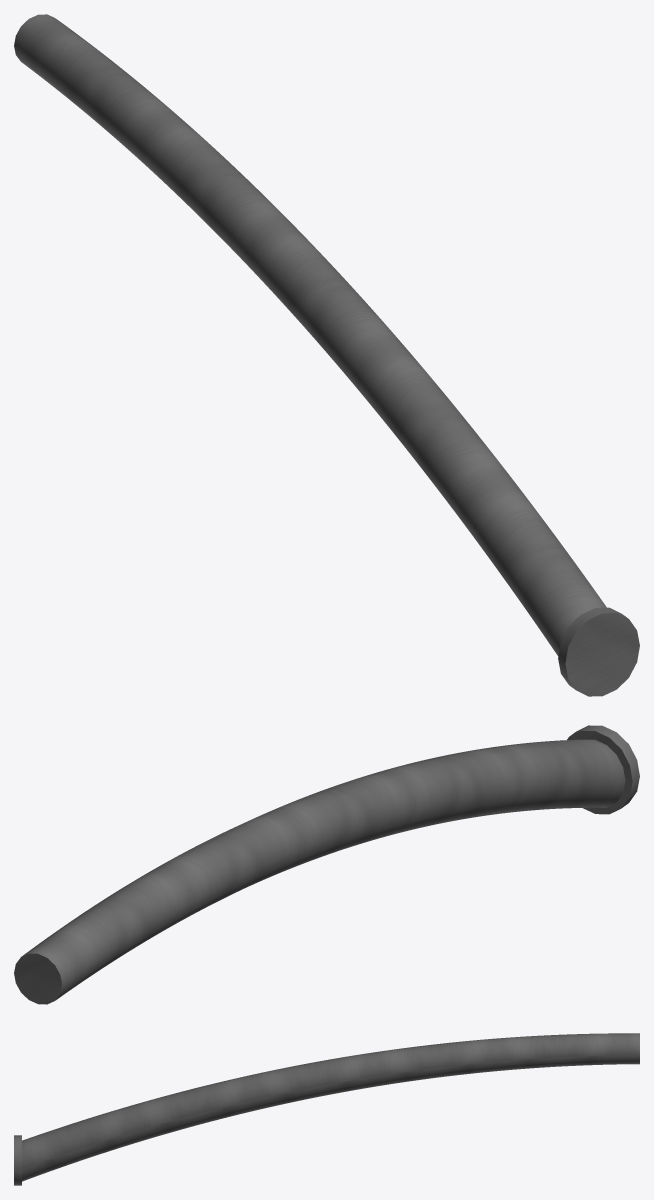
The model's file is mastarmcurve_10x2_inv.obj.
The picture shows the model from 3 angles, top to bottom: view 1: azimuth 30°, elevation 25°; view 2: azimuth 150°, elevation 25°; view 3: azimuth 270°, elevation 25°; orthographic projection. The views are drawn at different scales.
Visible parts, largest first — view 1: mastarm_10x2_inv; view 2: mastarm_10x2_inv; view 3: mastarm_10x2_inv.
Boxes of the visible parts, box(x1,y1,x2,y2) form: mastarm_10x2_inv: box(14, 14, 639, 696); mastarm_10x2_inv: box(14, 725, 639, 1004); mastarm_10x2_inv: box(14, 1033, 639, 1185).
Bounding box in the file's own units: 0.0763 × 0.2621 × 1.
